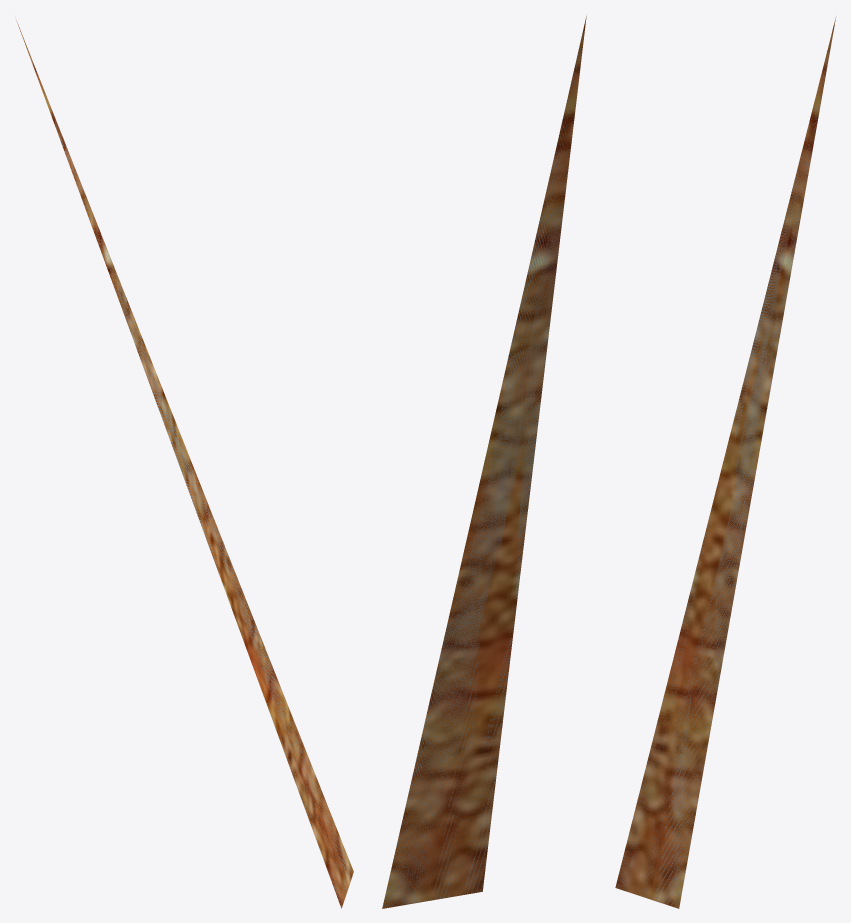
The model's file is 西庸城堡261.dae.
3 views of the same model, side by side, from view 1: azimuth 30°, elevation 25°; view 2: azimuth 150°, elevation 25°; view 3: azimuth 270°, elevation 25° (orthographic). The views are drawn at different scales.
Parts seen in each view (by area): view 1: SketchUp; view 2: SketchUp; view 3: SketchUp.
Boxes of the visible parts, bbox=[...] form: SketchUp: bbox=[16, 20, 353, 908]; SketchUp: bbox=[382, 16, 586, 908]; SketchUp: bbox=[615, 16, 836, 908].
Size of the model in its own units: 36.59 by 30.29 by 118.
